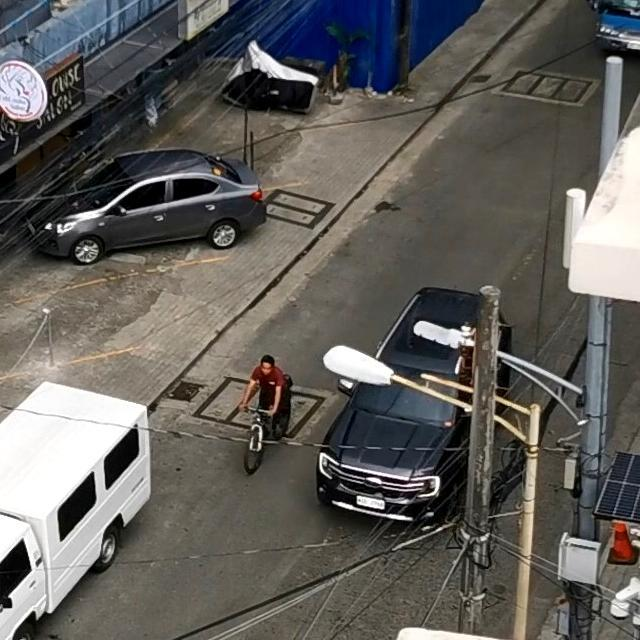Truck: (587, 0, 640, 51)
